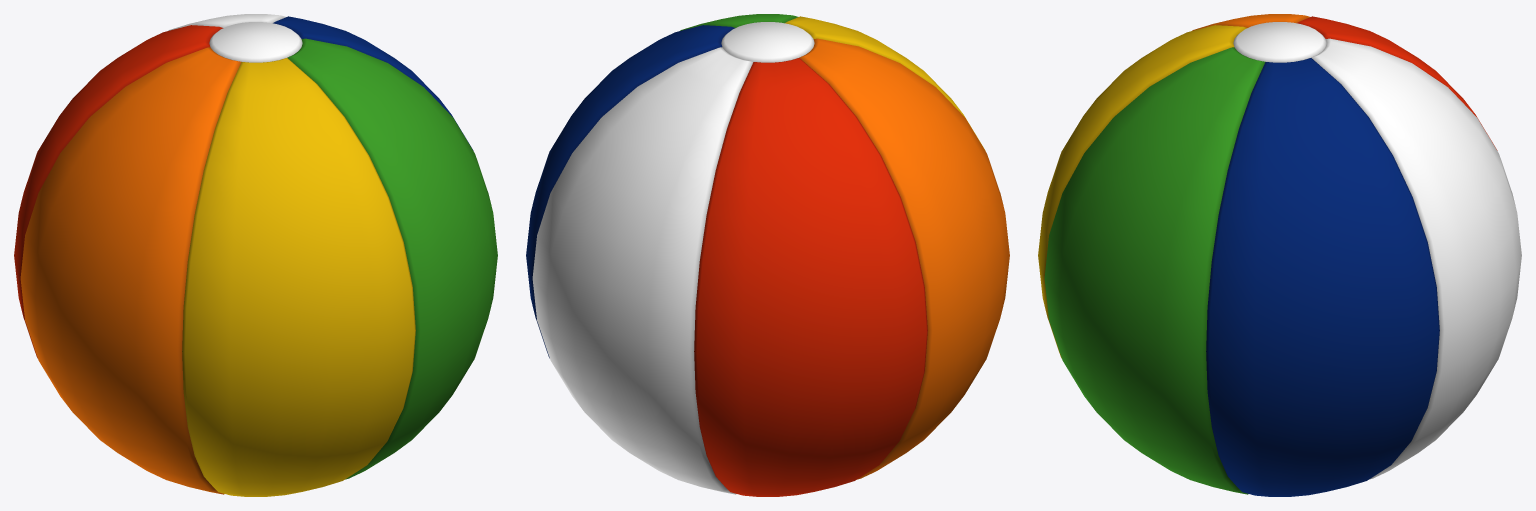
The model's file is beach_ball_free_download.glb.
3 views of the same model, side by side, from view 1: azimuth 30°, elevation 25°; view 2: azimuth 150°, elevation 25°; view 3: azimuth 270°, elevation 25° (orthographic).
Visible parts, largest first — view 1: Sphere; view 2: Sphere; view 3: Sphere.
Boxes of the visible parts, left/top/right/bottom form: Sphere: left=14, top=14, right=497, bottom=496; Sphere: left=526, top=14, right=1009, bottom=496; Sphere: left=1038, top=14, right=1521, bottom=496.
Size of the model in its own units: 1.99 by 2 by 2.
Materials: 1 (1 with a texture image).
